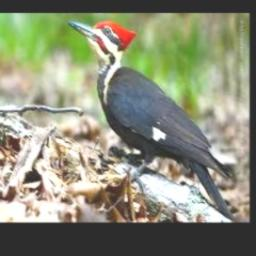Woodpecker: (68, 20, 239, 222)
